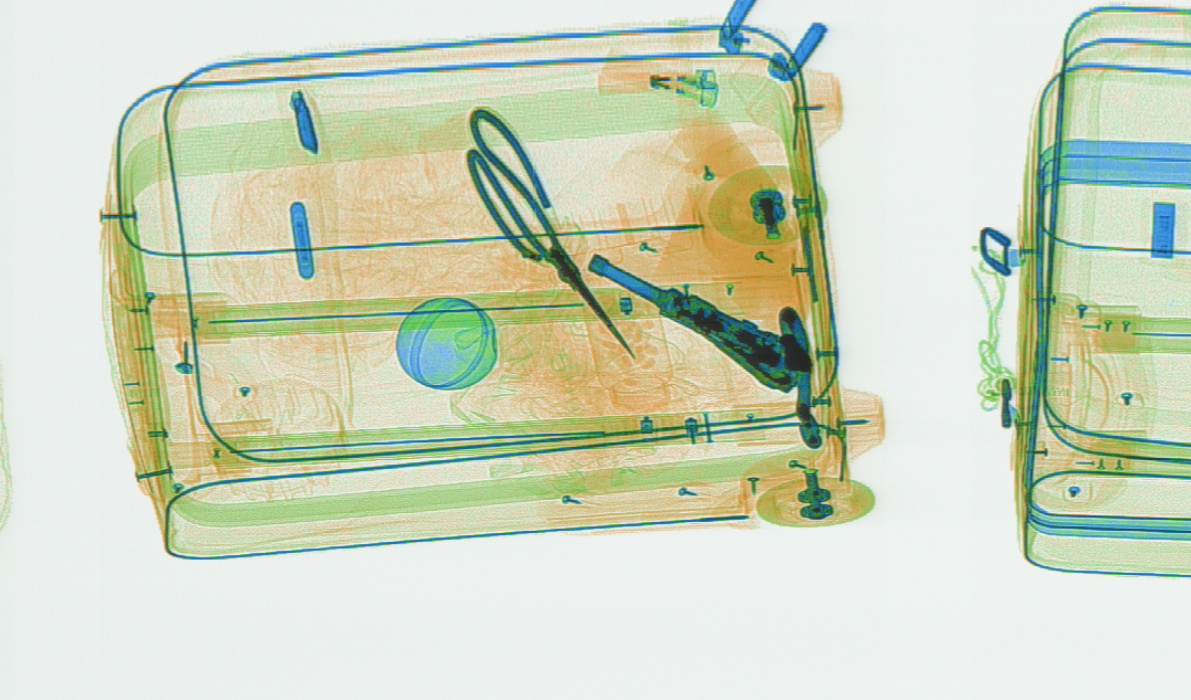lighter: (598, 44, 717, 105), (590, 57, 719, 95)
scissors: (459, 104, 634, 363)
slingshot: (767, 302, 824, 454)
